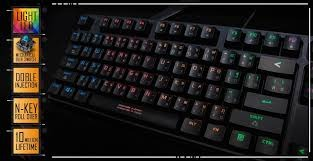keyboard: (48, 6, 309, 157)
